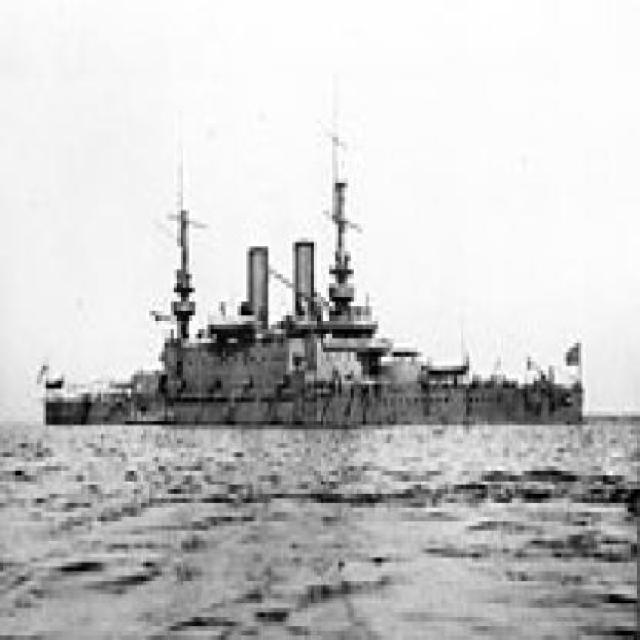warship2: (40, 74, 596, 440)
